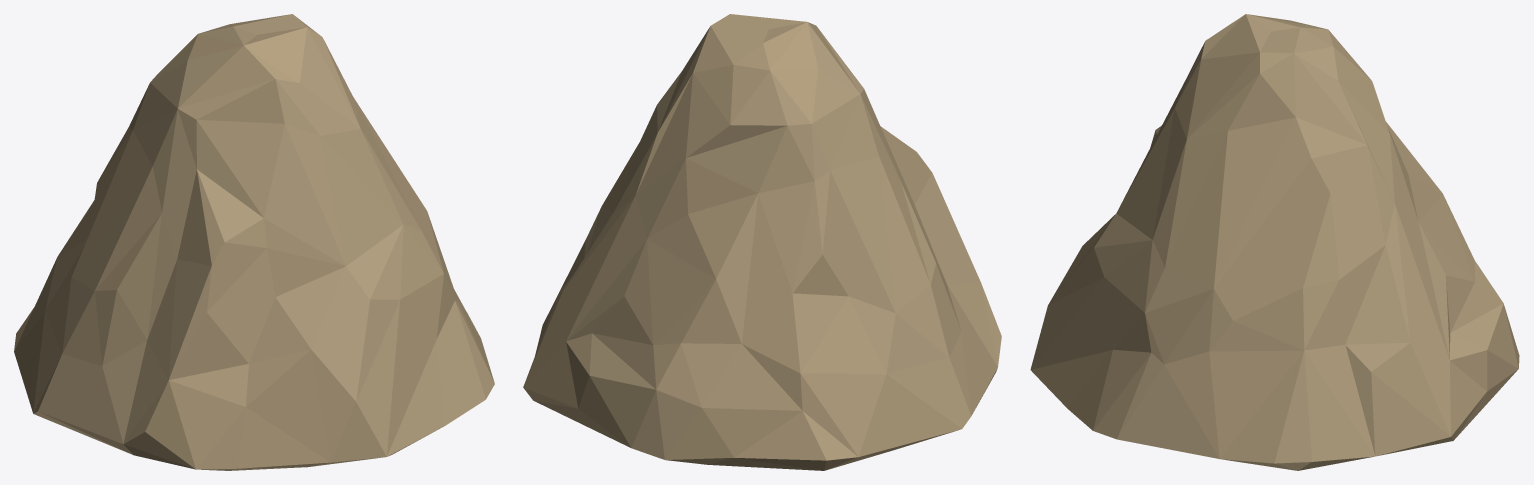
File: Mountain_2.fbx
The picture shows the model from 3 angles, left to right: view 1: azimuth 30°, elevation 25°; view 2: azimuth 150°, elevation 25°; view 3: azimuth 270°, elevation 25°; orthographic projection.
Parts seen in each view (by area): view 1: mountain2; view 2: mountain2; view 3: mountain2.
Boxes of the visible parts, bbox=[...] form: mountain2: bbox=[14, 14, 494, 470]; mountain2: bbox=[523, 14, 1001, 470]; mountain2: bbox=[1030, 14, 1519, 470].
Bounding box in the file's own units: 18.94 × 14.88 × 19.06.
